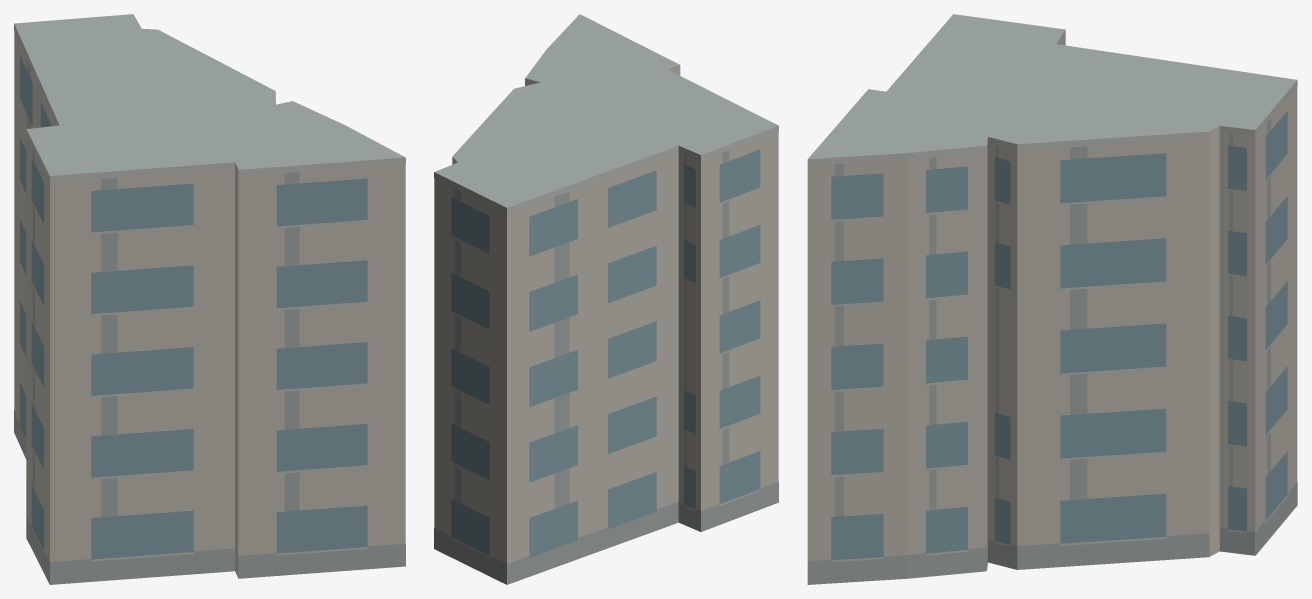
The model's file is survey-upis-32926248.glb.
3 views of the same model, side by side, from view 1: azimuth 30°, elevation 25°; view 2: azimuth 150°, elevation 25°; view 3: azimuth 270°, elevation 25° (orthographic). The views are drawn at different scales.
Visible parts, largest first — view 1: survey-upis-32926248.tmp; view 2: survey-upis-32926248.tmp; view 3: survey-upis-32926248.tmp.
Part boxes in pixels (<box>): survey-upis-32926248.tmp: <box>14,14,405,584</box>; survey-upis-32926248.tmp: <box>434,14,778,584</box>; survey-upis-32926248.tmp: <box>807,14,1297,584</box>.
Size of the model in its own units: 11.13 by 15.2 by 15.86.
